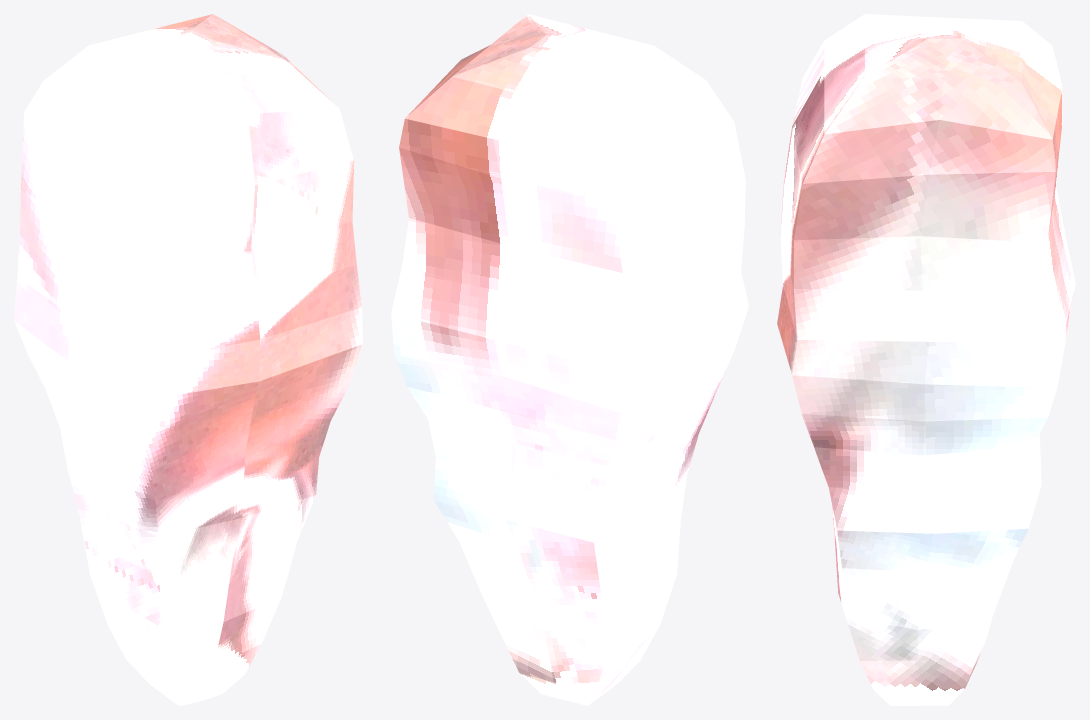
The model's file is metamorphosis_v1.glb.
The picture shows the model from 3 angles, left to right: view 1: azimuth 30°, elevation 25°; view 2: azimuth 150°, elevation 25°; view 3: azimuth 270°, elevation 25°; orthographic projection. The views are drawn at different scales.
Parts seen in each view (by area): view 1: metamorphosis_v1; view 2: metamorphosis_v1; view 3: metamorphosis_v1.
Part boxes in pixels (x1,y1,x2,y2): metamorphosis_v1: (14,14,362,705); metamorphosis_v1: (391,14,748,705); metamorphosis_v1: (777,14,1075,705).
Bounding box in the file's own units: 0.8716 × 2.22 × 0.8849.
